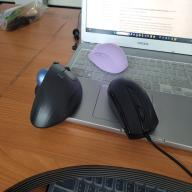mouse: (29, 58, 83, 130), (105, 77, 160, 139), (87, 42, 129, 74)
